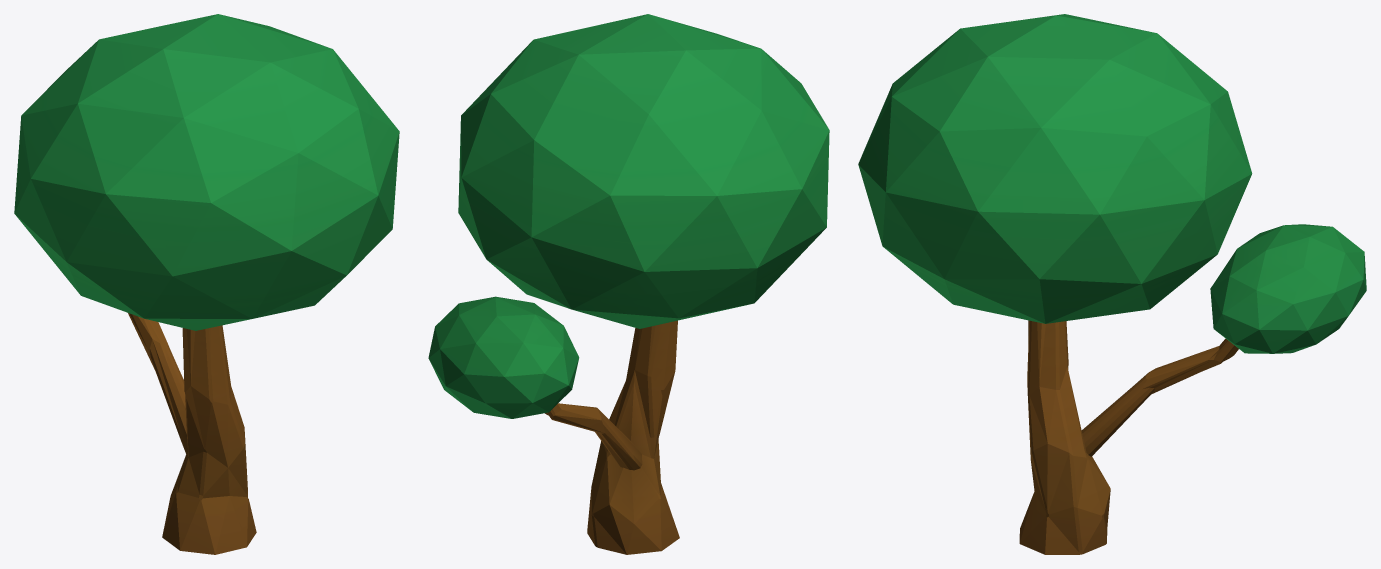
File: tree_fruit.glb
3 renders of one model, left to right at view 1: azimuth 30°, elevation 25°; view 2: azimuth 150°, elevation 25°; view 3: azimuth 270°, elevation 25°, orthographic.
Parts seen in each view (by area): view 1: Poplar Tree_1_AA; view 2: Poplar Tree_1_AA; view 3: Poplar Tree_1_AA.
Boxes of the visible parts, bbox=[...] form: Poplar Tree_1_AA: bbox=[14, 14, 399, 554]; Poplar Tree_1_AA: bbox=[428, 14, 829, 554]; Poplar Tree_1_AA: bbox=[858, 14, 1366, 554].
Bounding box in the file's own units: 2.24 × 3.19 × 2.96.
Materials: 1 (1 with a texture image).
